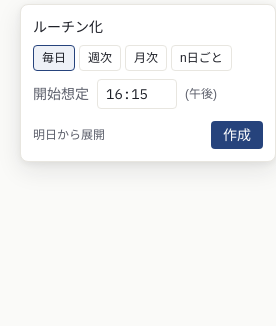
Test: RoutinizePopover（画面定義書01 §4.1 / O-12: 最小の入力でタスクからルーチンを作る） › 入力の検証（§4.1: 不正なら確定させずポップオーバー内に出す） › invalid_week_interval: 週間隔が範囲外
Click the button "週次". click: coordinates (100, 58)
box: left=79, top=45, right=121, bottom=71
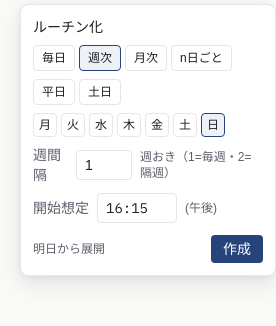
Replace the text in the number field labelled "週間隔 週おき（1=毎週・2=隔週）" with "54". click: coordinates (104, 165)
box: left=76, top=150, right=132, bottom=180
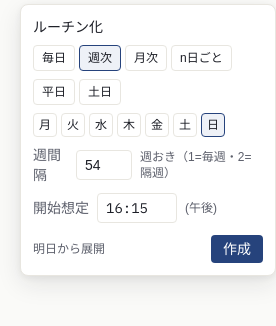
Click the button "作成". click: coordinates (237, 249)
box: left=211, top=235, right=263, bottom=263
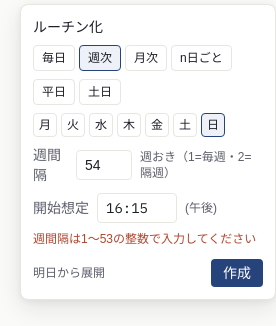
expect the text "週間隔は1〜53の整数で入力してください" is shown: met, box left=33, top=231, right=263, bottom=247
